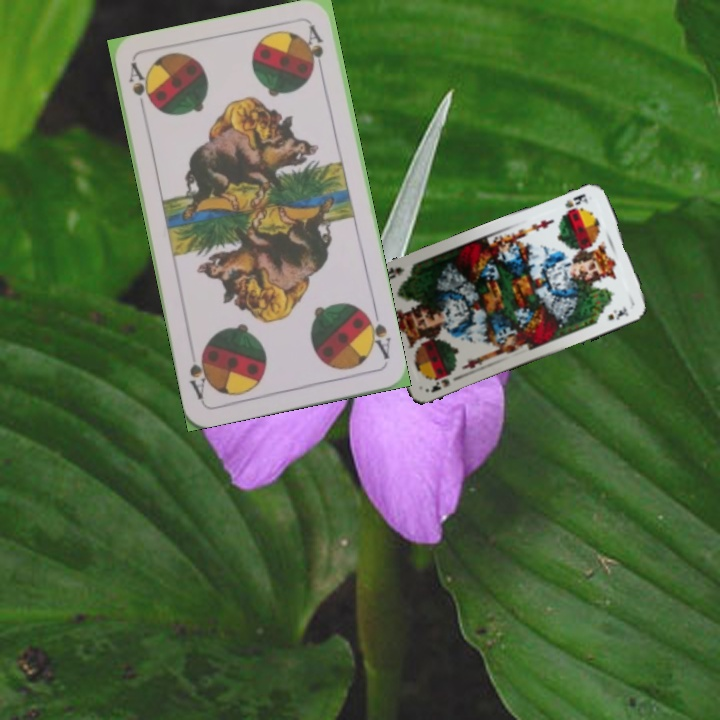SA: (360, 306, 393, 362), (125, 59, 154, 118)
SK: (561, 190, 591, 211), (427, 375, 452, 395)
